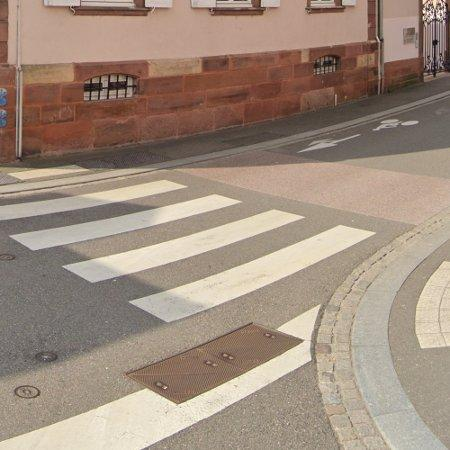crosswalks: (0, 178, 375, 329)
